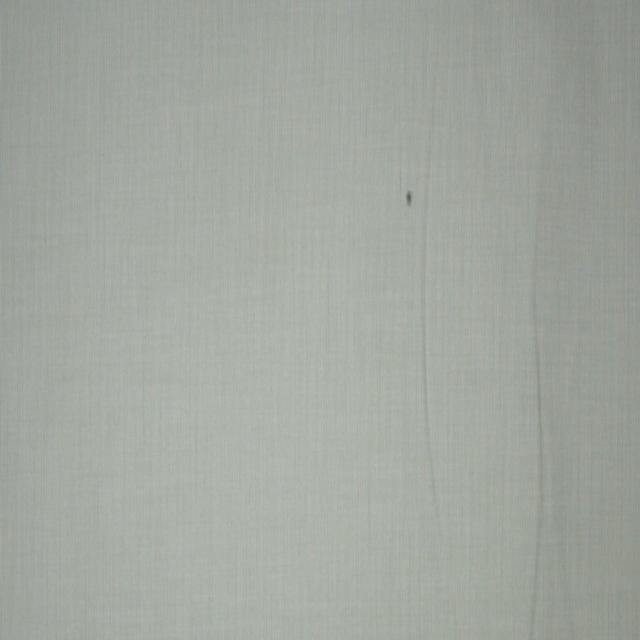dirty: (406, 190, 413, 208)
